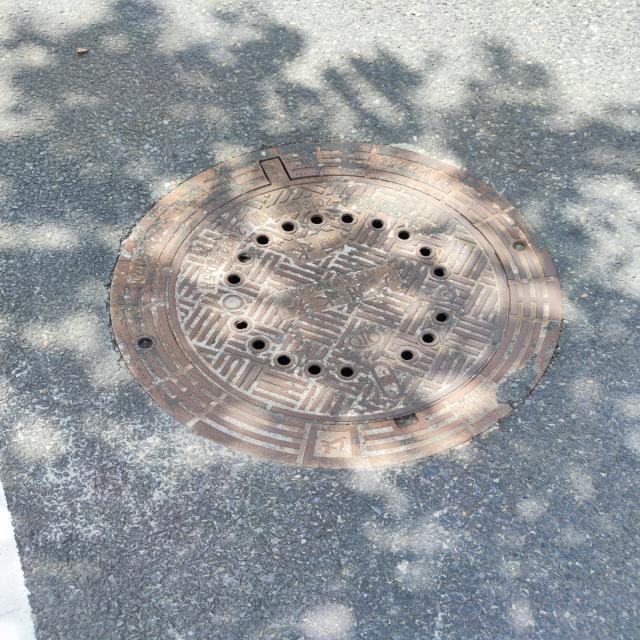Good: (101, 140, 569, 472)
